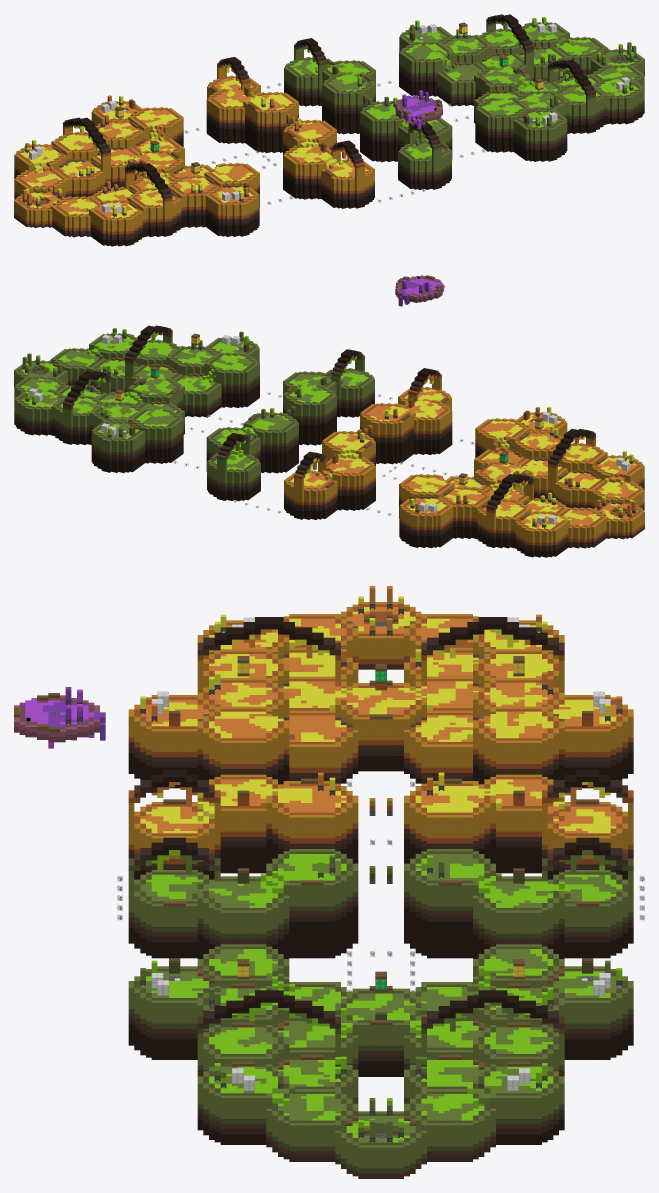
Rendered from minecraft.obj.
The picture shows the model from 3 angles, top to bottom: view 1: azimuth 30°, elevation 25°; view 2: azimuth 150°, elevation 25°; view 3: azimuth 270°, elevation 25°; orthographic projection. The views are drawn at different scales.
Size of the model in its own units: 225 by 40 by 110.
